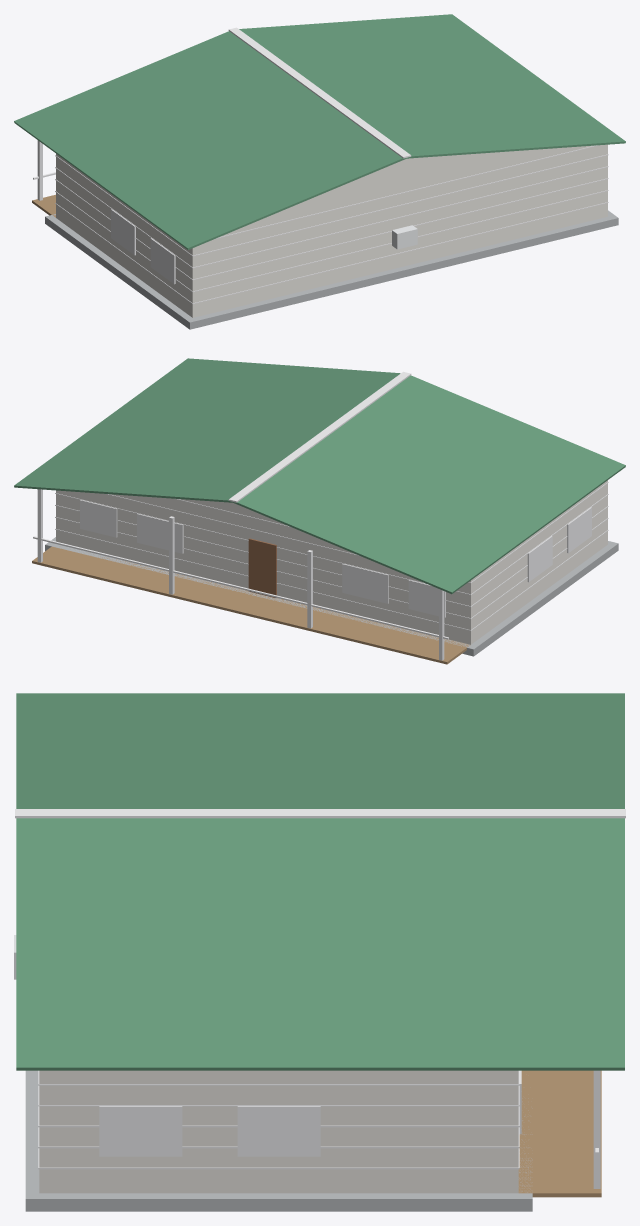
Rendered from foreman_staff_house.glb.
3 renders of one model, top to bottom at view 1: azimuth 30°, elevation 25°; view 2: azimuth 150°, elevation 25°; view 3: azimuth 270°, elevation 25°, orthographic. The views are drawn at different scales.
Parts seen in each view (by area): view 1: Cube.014, Cube.001, Cube.015, Cube, GableWall_1, Cube.016, Cube.002, Cube.006, Cube.005, Cube.004, Cube.003, Cube.030 (+3 smaller); view 2: Cube.014, Cube.015, Cube.001, Cube.008, Cube, Cube.016, Cube.017, Cube.018, Cube.013, Cube.020, Cube.024, Cube.022 (+10 smaller); view 3: Cube.015, Cube.014, Cube.001, Cube, Cube.008, Cube.016, Cube.028, Cube.032, Cube.002, Cube.003, Cube.004, Cube.006 (+2 smaller).
Boxes of the visible parts, box(x1,y1,x2,y2) form: Cube.014: box(14, 31, 406, 249); Cube.001: box(56, 144, 607, 317); Cube.015: box(239, 14, 625, 158); Cube: box(45, 210, 618, 329); GableWall_1: box(230, 146, 583, 232); Cube.016: box(228, 27, 411, 158); Cube.002: box(55, 202, 608, 304); Cube.006: box(55, 154, 608, 256); Cube.005: box(55, 166, 608, 268); Cube.004: box(55, 178, 608, 280); Cube.003: box(55, 190, 608, 292); Cube.030: box(150, 238, 175, 284); Cube.014: box(233, 375, 625, 594); Cube.015: box(14, 358, 400, 502); Cube.001: box(56, 480, 607, 644); Cube.008: box(32, 546, 470, 664); Cube: box(45, 537, 618, 656); Cube.016: box(228, 371, 411, 502); Cube.017: box(248, 538, 276, 597); Cube.018: box(342, 564, 388, 603); Cube.013: box(33, 536, 448, 639); Cube.020: box(137, 513, 183, 553); Cube.024: box(80, 500, 117, 537); Cube.022: box(408, 580, 445, 617); Cube.015: box(16, 818, 624, 1070); Cube.014: box(16, 693, 624, 808); Cube.001: box(39, 1070, 518, 1193); Cube: box(25, 1070, 532, 1211); Cube.008: box(518, 1070, 601, 1197); Cube.016: box(15, 809, 625, 818); Cube.028: box(237, 1106, 320, 1156); Cube.032: box(99, 1106, 182, 1156); Cube.002: box(38, 1148, 519, 1169); Cube.003: box(38, 1127, 519, 1148); Cube.004: box(38, 1106, 519, 1127); Cube.006: box(38, 1070, 519, 1085).
Size of the model in its own units: 19.21 by 5.17 by 13.28.
